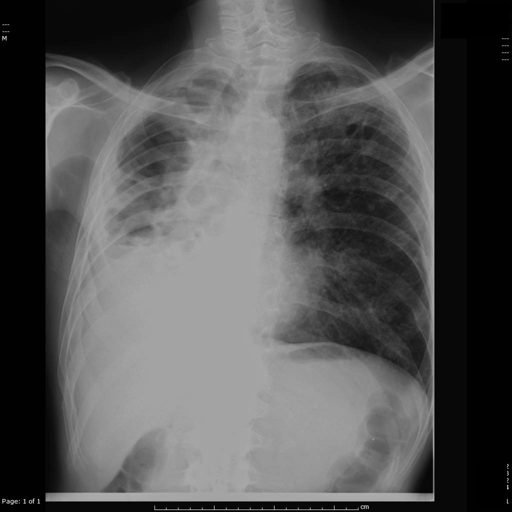TB: (93, 71, 237, 265), (304, 83, 383, 195)
